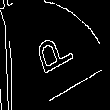P_SW: (31, 28, 79, 82)
